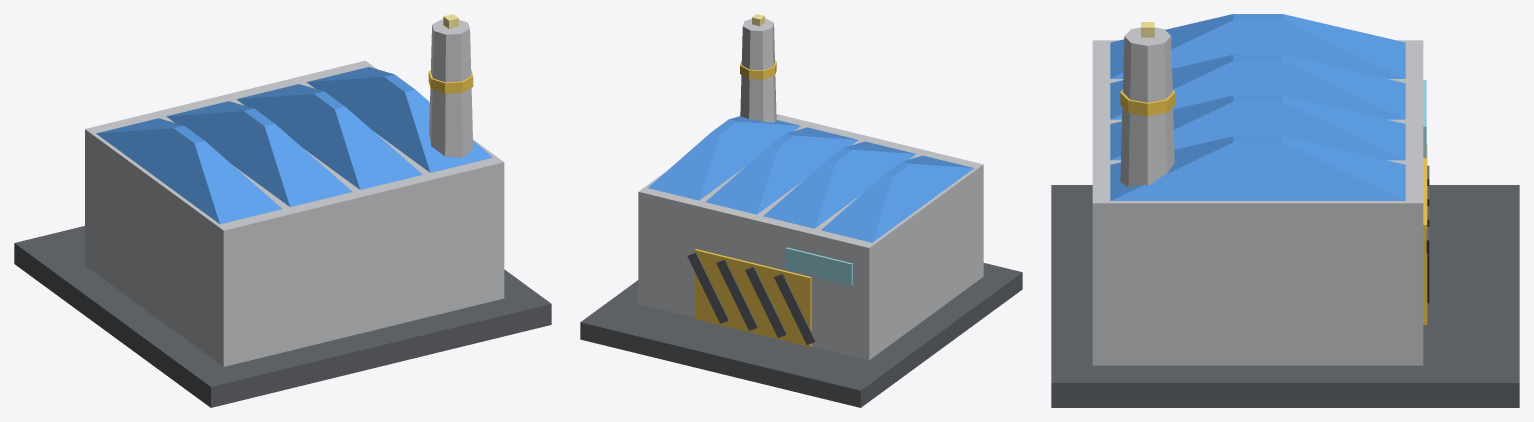
File: Factory.fbx
3 renders of one model, left to right at view 1: azimuth 30°, elevation 25°; view 2: azimuth 150°, elevation 25°; view 3: azimuth 270°, elevation 25°, orthographic. The views are drawn at different scales.
Visible parts, largest first — view 1: Metal.004, Team.004, Dark.004, Hazard.003; view 2: Metal.004, Dark.004, Team.004, Hazard.003, Glass.001; view 3: Metal.004, Dark.004, Team.004, Hazard.003.
Boxes of the visible parts, bbox=[...] form: Metal.004: bbox=[85, 19, 504, 366]; Team.004: bbox=[96, 67, 492, 224]; Dark.004: bbox=[14, 226, 551, 407]; Hazard.003: bbox=[428, 69, 473, 93]; Metal.004: bbox=[638, 18, 983, 360]; Dark.004: bbox=[580, 252, 1022, 407]; Team.004: bbox=[648, 116, 973, 242]; Hazard.003: bbox=[694, 60, 811, 346]; Glass.001: bbox=[785, 247, 852, 285]; Metal.004: bbox=[1092, 27, 1423, 365]; Dark.004: bbox=[1051, 165, 1519, 407]; Team.004: bbox=[1110, 14, 1405, 200]; Hazard.003: bbox=[1120, 90, 1427, 324].
Size of the model in its own units: 340 by 279 by 340.
